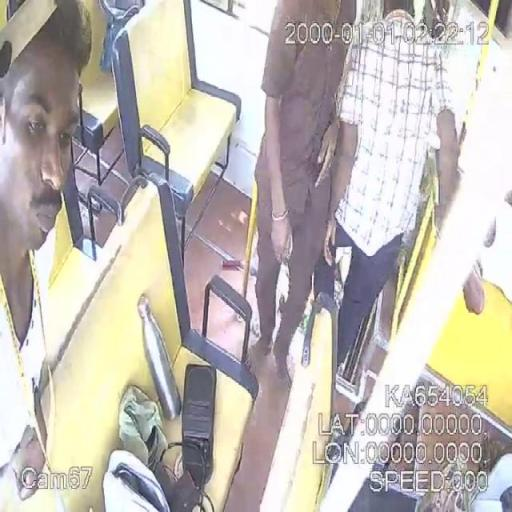persona: (321, 2, 464, 407), (0, 0, 94, 511), (250, 0, 360, 391)
